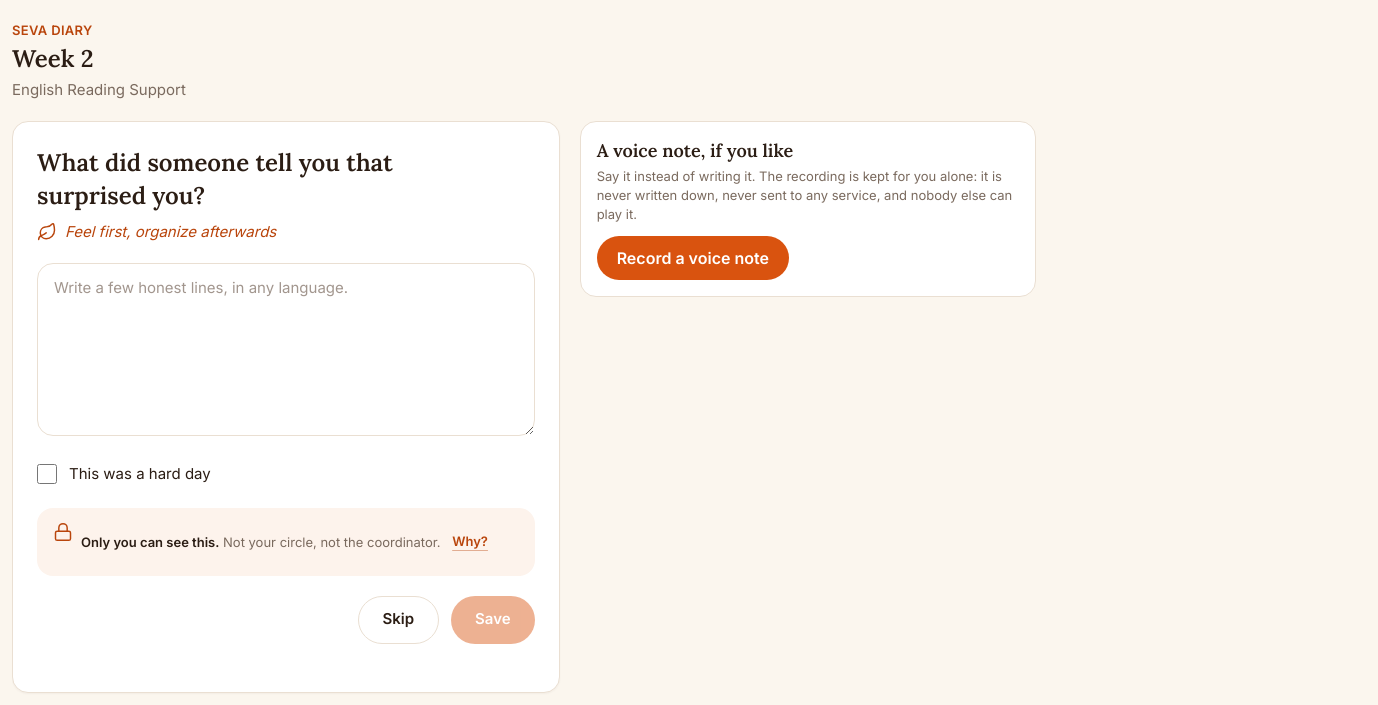
Diary › U6: typing an answer and saving puts it in the list at once
Expected: the button "Save" is disabled, [451,596,535,644]
Type "I waited, and he finished the sentence himself." into the text box named "Your answer". click: {"x": 286, "y": 349}
box: [37,263,535,436]
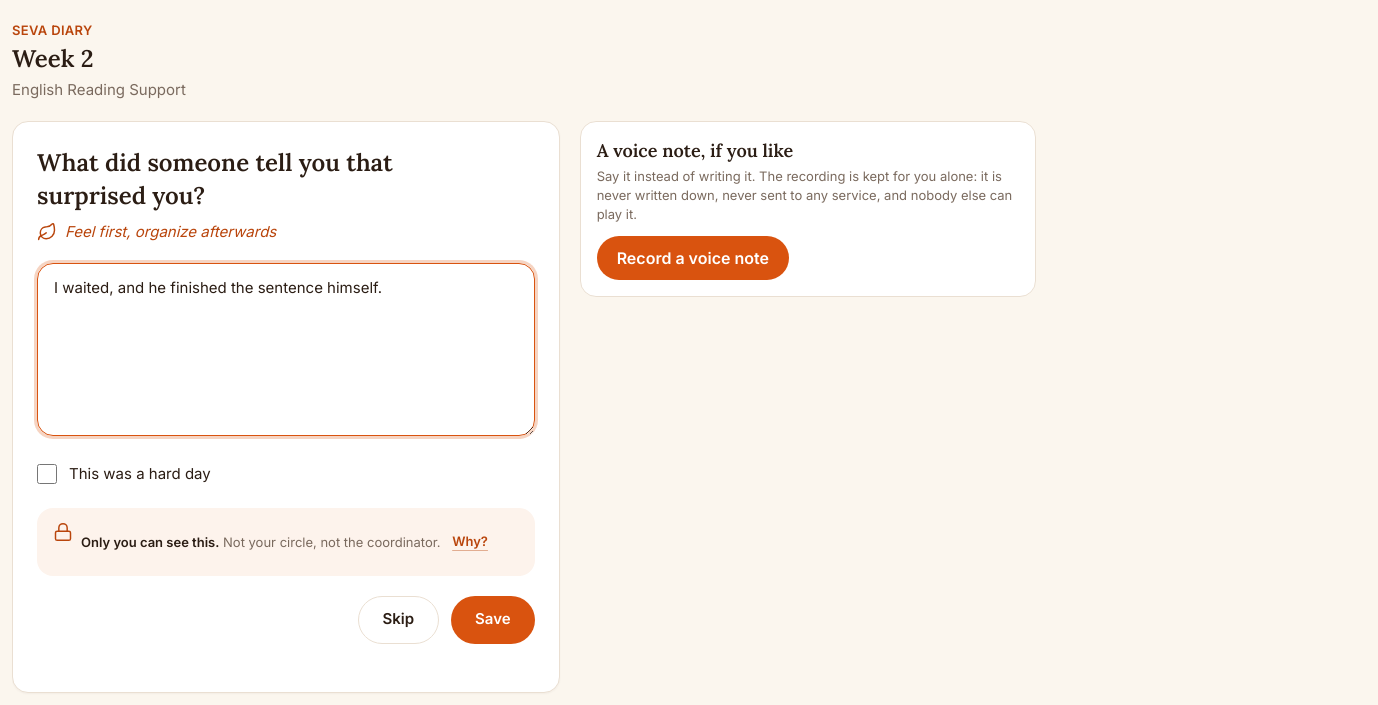
Click the checkbox labelled "This was a hard day". click: {"x": 47, "y": 474}
box: [37,464,57,484]
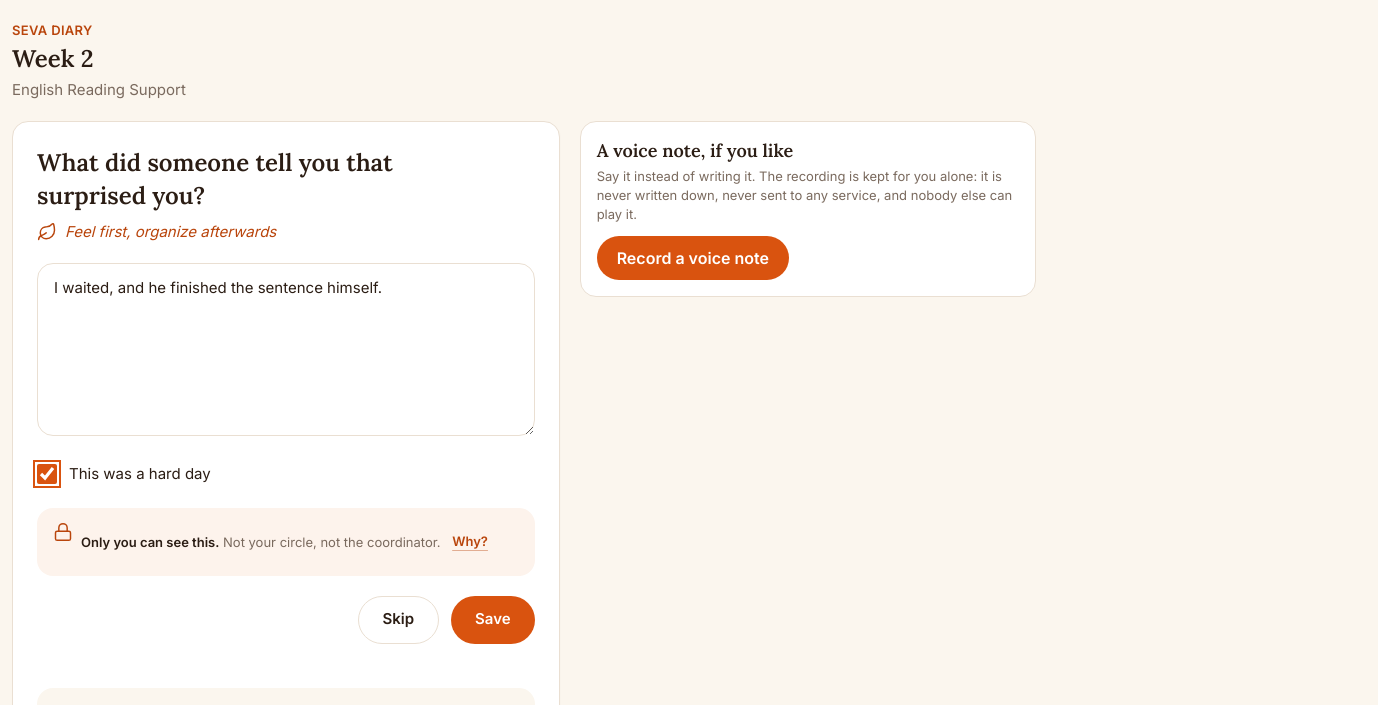
Click the button "Save". click: {"x": 493, "y": 620}
box: [451,596,535,644]
(page scrolled)
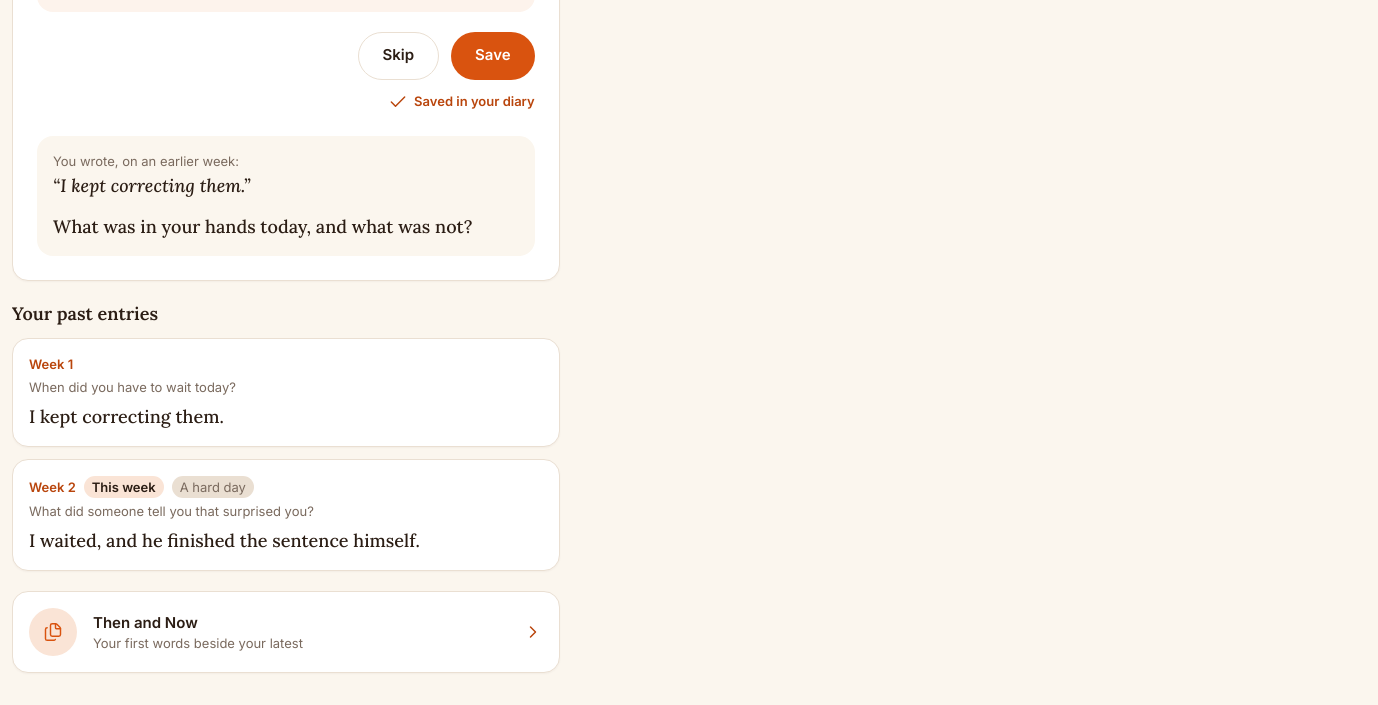
Now the text "Saved in your diary" is shown, box [388,92,535,112]
Now the text "I waited, and he finished the sentence himself." is shown, box [29,529,420,552]
Now the text "This week" is shown, box [84,476,164,498]
